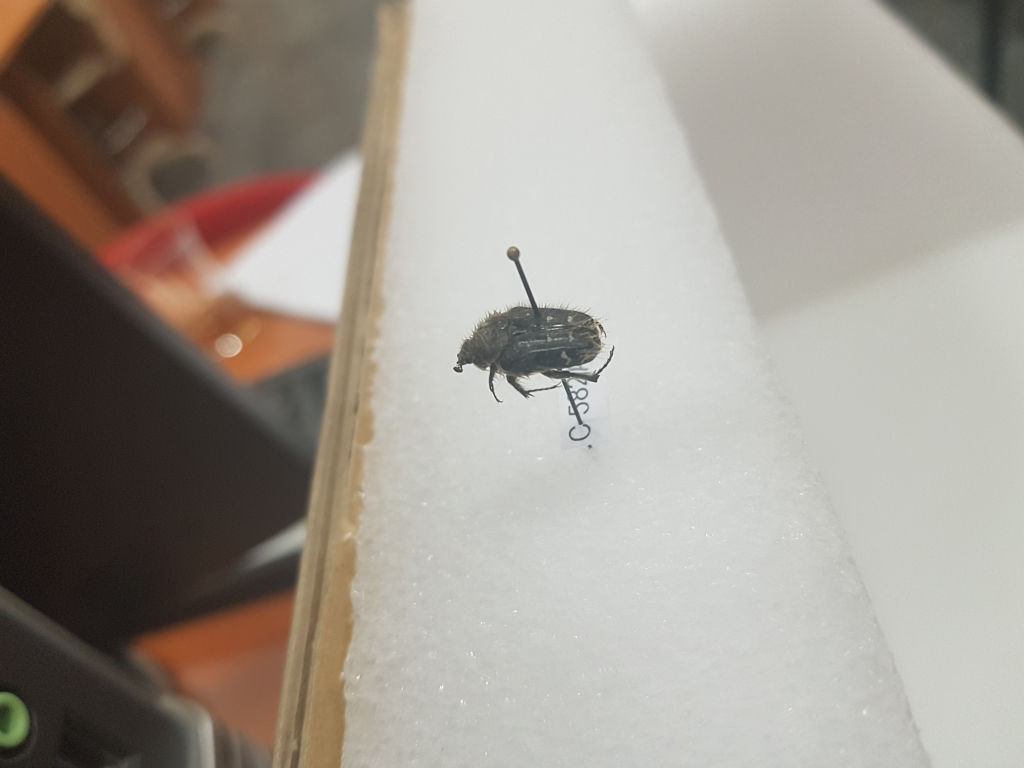Tropinota_hirta: (448, 299, 635, 403)
